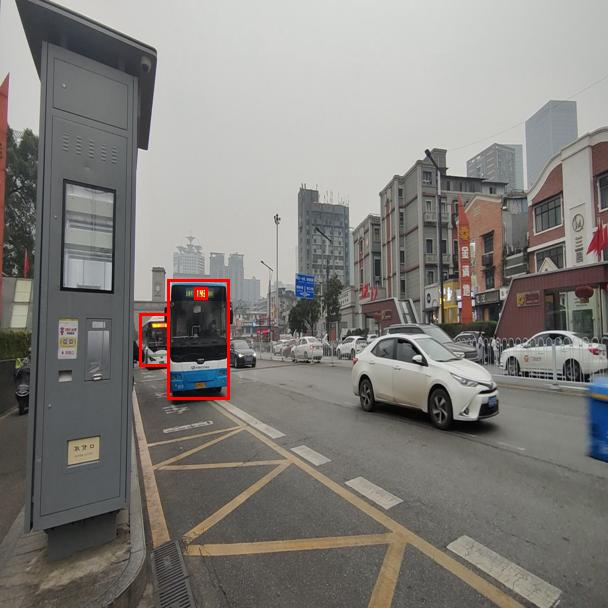bus: (167, 279, 229, 399), (139, 313, 169, 366)
screen: (194, 287, 207, 299)
